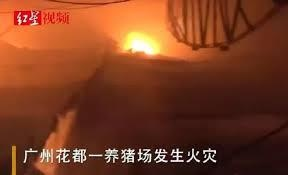fire: (117, 26, 162, 57)
